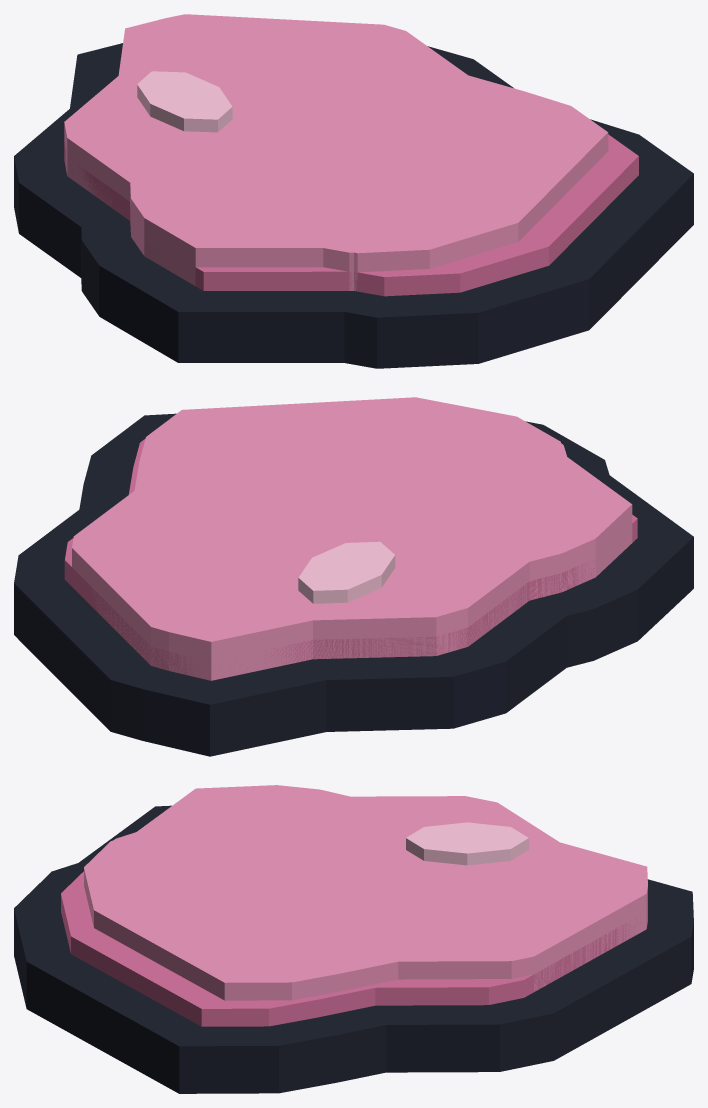
Rendered from rabbit_fur.fbx.
3 views of the same model, one above another, from view 1: azimuth 30°, elevation 25°; view 2: azimuth 150°, elevation 25°; view 3: azimuth 270°, elevation 25° (orthographic). The views are drawn at different scales.
Visible parts, largest first — view 1: rabbit_fur; view 2: rabbit_fur; view 3: rabbit_fur.
Boxes of the visible parts, x1,y1,x2,y2 form: rabbit_fur: (14,14,693,368); rabbit_fur: (14,397,693,756); rabbit_fur: (14,785,693,1093).
Bounding box in the file's own units: 0.8846 × 0.16 × 1.04.
1 material, 1 textured.
